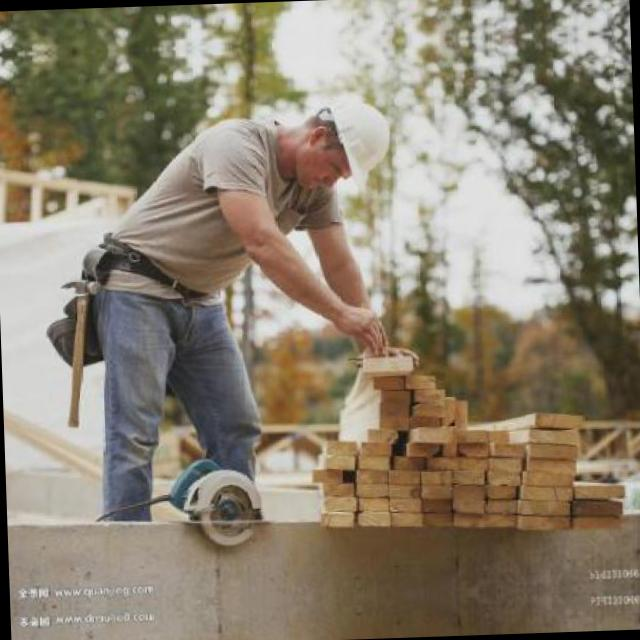helmet: (288, 92, 398, 199)
